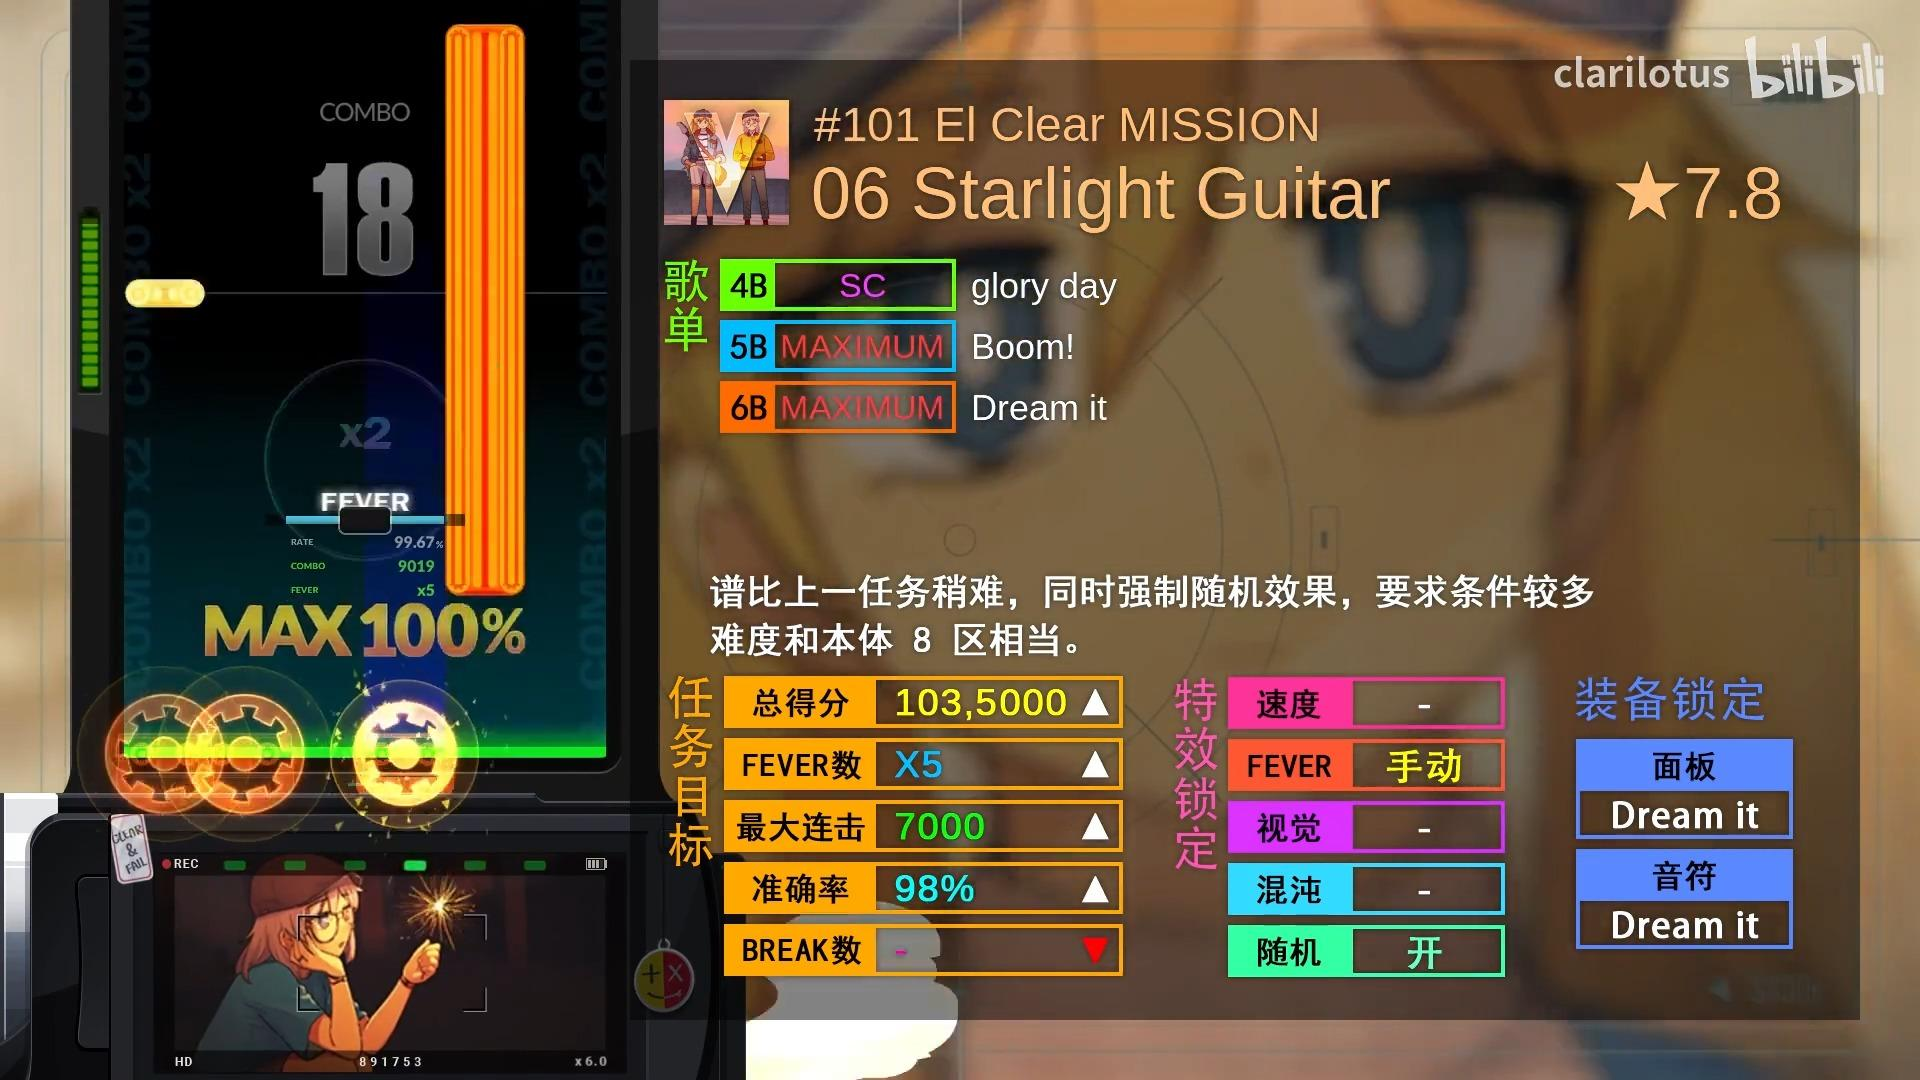hold-end: (446, 24, 524, 51)
hold-start: (444, 566, 526, 596)
note: (125, 278, 206, 309)
